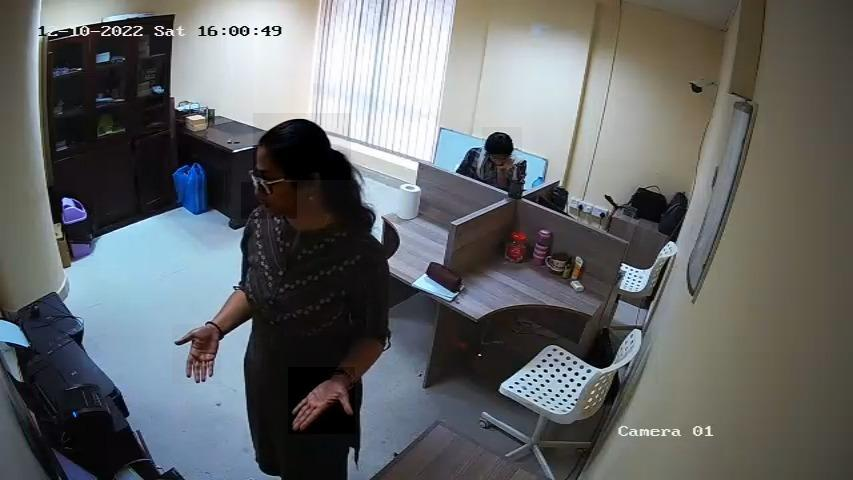no_apron: (289, 367, 356, 434), (172, 324, 221, 384), (498, 158, 516, 179)
no_gloves: (254, 114, 352, 181), (483, 128, 523, 157)
no_hairnet: (242, 182, 298, 219), (490, 155, 512, 170)
